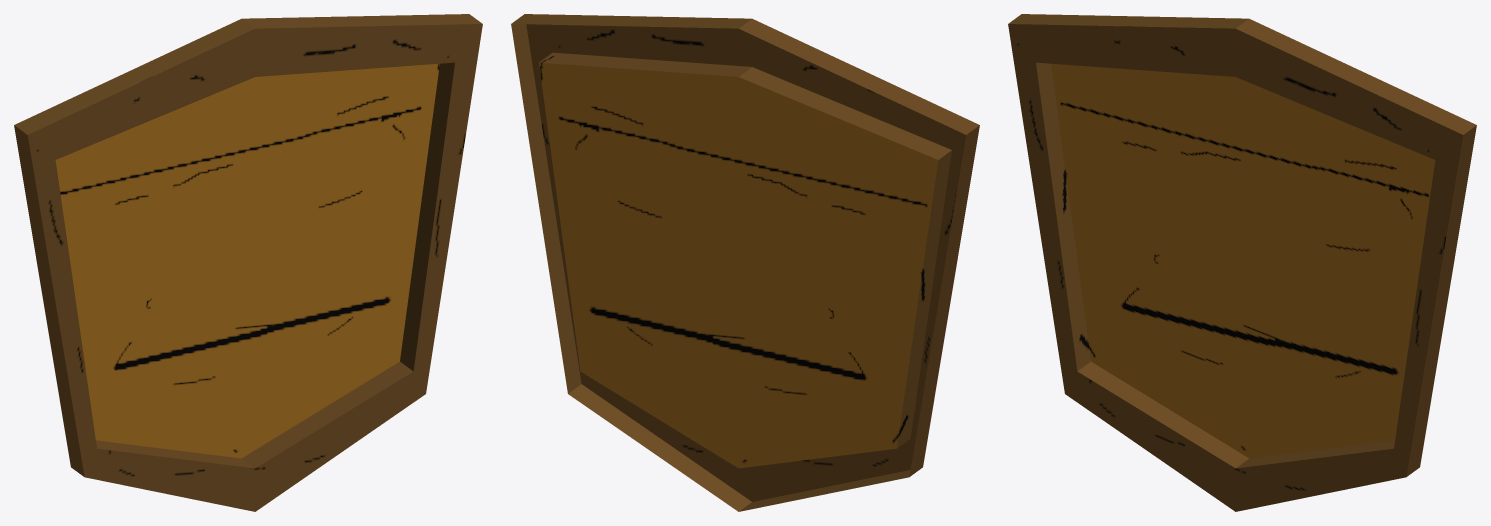
Rendered from shield_wooden.glb.
3 views of the same model, side by side, from view 1: azimuth 30°, elevation 25°; view 2: azimuth 150°, elevation 25°; view 3: azimuth 330°, elevation 25° (orthographic).
Visible parts, largest first — view 1: Plane; view 2: Plane; view 3: Plane.
Part boxes in pixels (x1,y1,x2,y2): Plane: (14,14,482,511); Plane: (511,14,979,511); Plane: (1008,14,1476,511).
Size of the model in its own units: 1.87 by 1.9 by 0.0973.
1 material, 1 textured.
